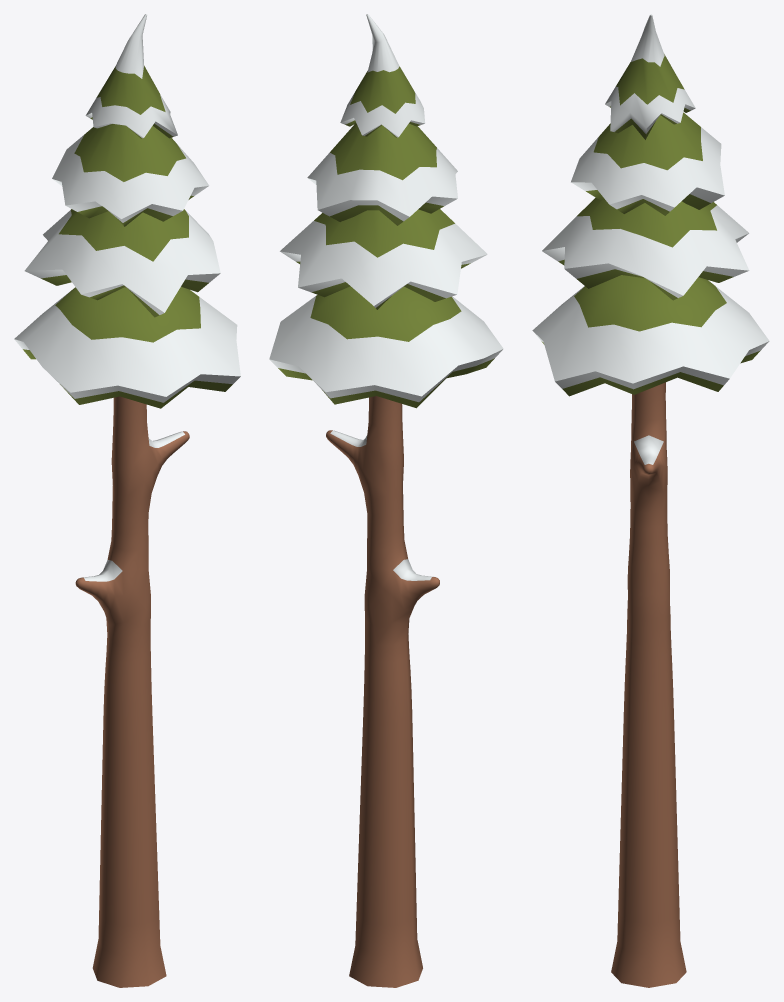
The model's file is Tree Pine.fbx.
The picture shows the model from 3 angles, left to right: view 1: azimuth 30°, elevation 25°; view 2: azimuth 150°, elevation 25°; view 3: azimuth 270°, elevation 25°; orthographic projection.
Parts seen in each view (by area): view 1: Tree Pine; view 2: Tree Pine; view 3: Tree Pine.
Boxes of the visible parts, <box> form: Tree Pine: <box>14,14,240,987</box>; Tree Pine: <box>269,14,503,987</box>; Tree Pine: <box>532,14,769,987</box>.
Size of the model in its own units: 1051 by 4981 by 1108.
